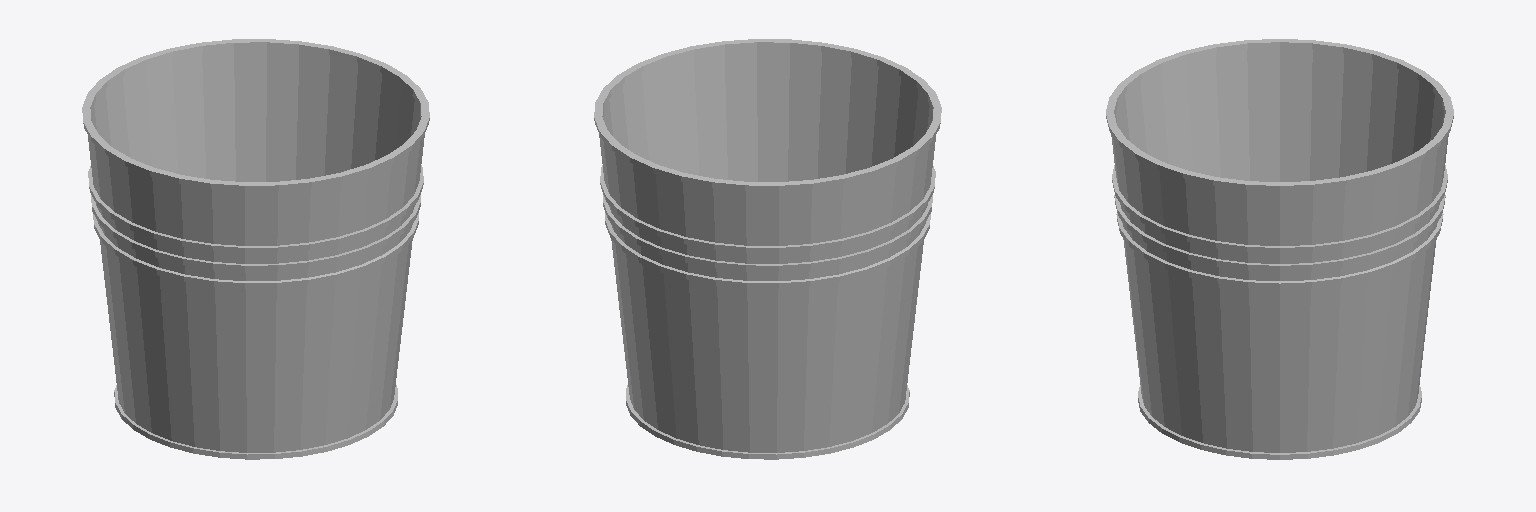
Rendered from bucket.obj.
3 views of the same model, side by side, from view 1: azimuth 30°, elevation 25°; view 2: azimuth 150°, elevation 25°; view 3: azimuth 270°, elevation 25° (orthographic).
Visible parts, largest first — view 1: bucket outside_closet group1; view 2: bucket outside_closet group1; view 3: bucket outside_closet group1.
Boxes of the visible parts, x1,y1,x2,y2 form: bucket outside_closet group1: [82, 39, 429, 459]; bucket outside_closet group1: [594, 39, 941, 459]; bucket outside_closet group1: [1106, 39, 1453, 459].
Size of the model in its own units: 30.32 by 27.6 by 30.32.